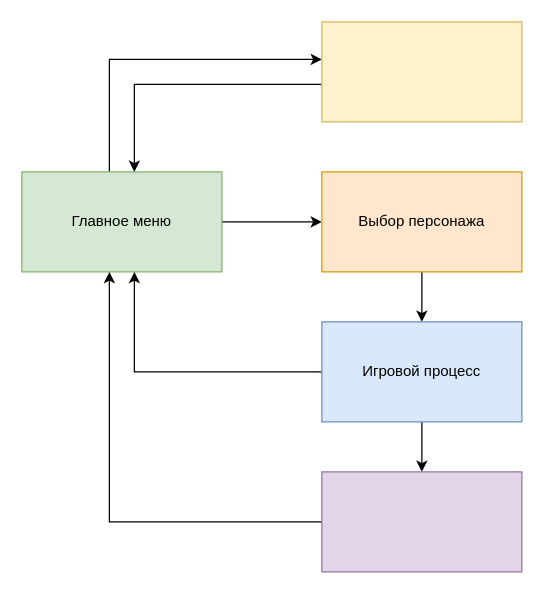
This 544x594 diagram has some shape labels left out. Here are the shapes that lost their labels. From the top down, the centre of each, then its label:
At point 421,71: "Магазин персонажей".
At point 421,521: "Результаты матча".
